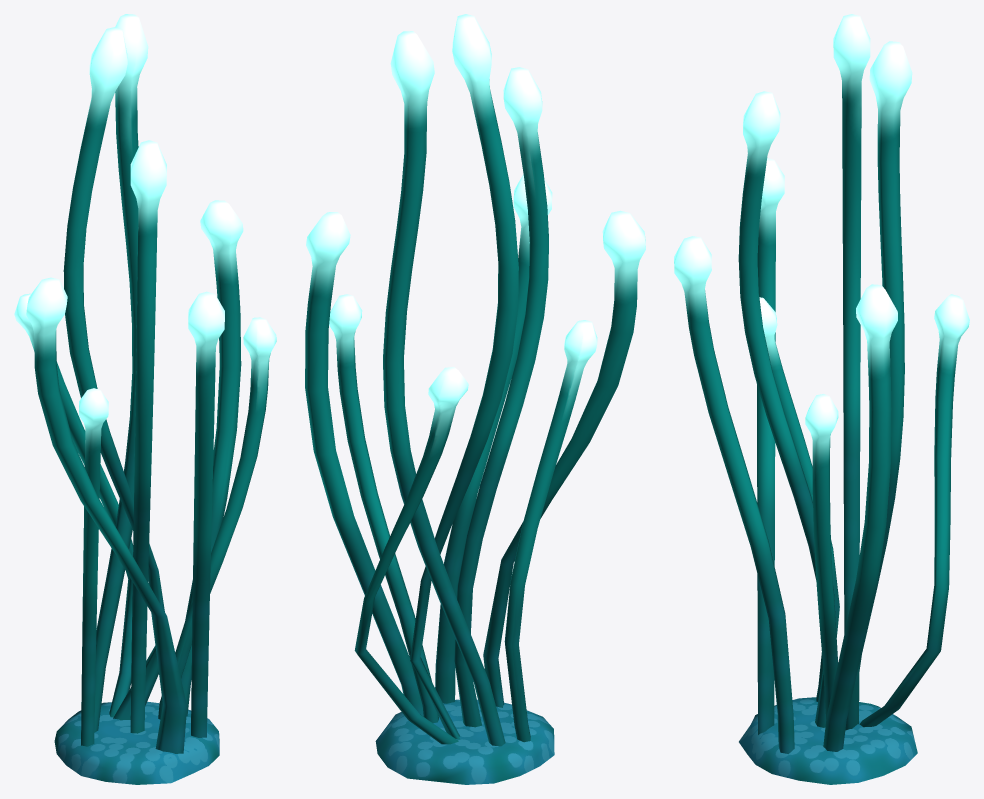
File: PlantSeaweed01_4.FBX
3 renders of one model, left to right at view 1: azimuth 30°, elevation 25°; view 2: azimuth 150°, elevation 25°; view 3: azimuth 270°, elevation 25°, orthographic. The views are drawn at different scales.
Parts seen in each view (by area): view 1: PlantSeaweed01_4; view 2: PlantSeaweed01_4; view 3: PlantSeaweed01_4.
Boxes of the visible parts, x1,y1,x2,y2 form: PlantSeaweed01_4: [14, 14, 276, 784]; PlantSeaweed01_4: [305, 14, 645, 784]; PlantSeaweed01_4: [674, 14, 969, 784].
Size of what is drawn, in the model's own units: 0.4039 by 0.9942 by 0.3686.
